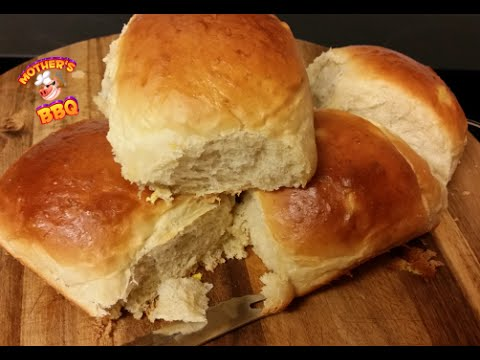hamburger_buns: (7, 120, 244, 330), (103, 1, 323, 197), (311, 33, 480, 199)
